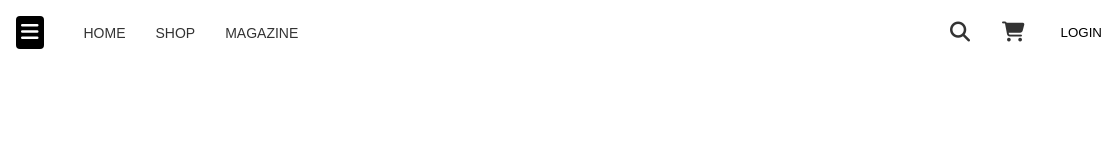
Test: Header Component › should toggle menu visibility when menu button is clicked
This screenshot has width=1118, height=160.
Expected: the button "HOME" is shown, [74,20,136,46]
Expected: the button "SHOP" is shown, [146,20,205,46]
Click the button with test id "menu-button": x=30, y=32 [16,16,44,49]
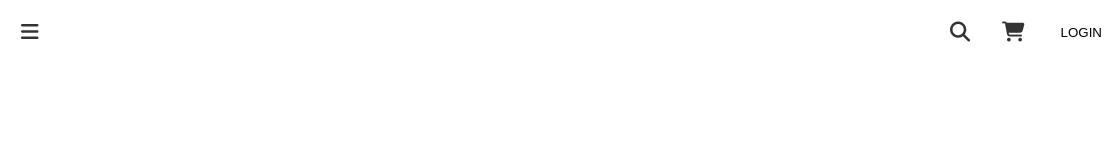
Result: the button "HOME" is gone
Result: the button "SHOP" is gone
Result: the button "MAGAZINE" is gone
Click the button with test id "menu-button": x=30, y=32 [16,16,44,49]
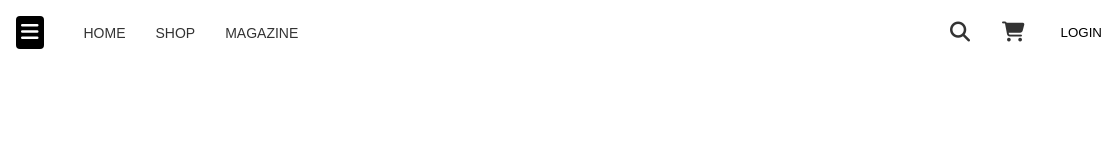
Result: the button "HOME" is shown at [74,20,136,46]
Result: the button "SHOP" is shown at [146,20,205,46]
Result: the button "MAGAZINE" is shown at [215,20,308,46]
